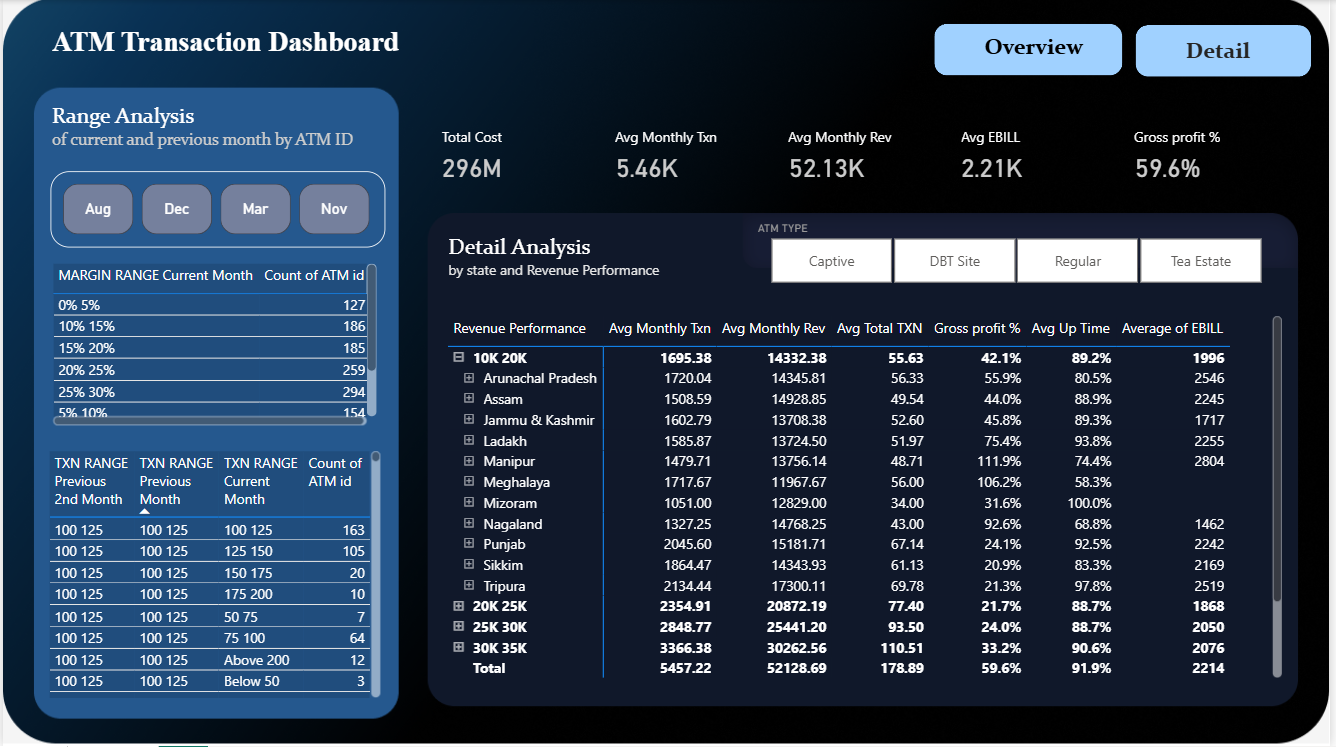

The dashboard page shown, as its layout file describes it:
{"tool":"powerbi","page":{"name":"Detail","canvas":[1280,720],"ordinal":1},"visuals":[{"type":"tableEx","fields":{"Values":["Dataset.MARGIN RANGE Current Month","Dataset.ATM id"]},"box":[42.7,250,323.2,165.9],"z":0},{"type":"tableEx","fields":{"Values":["Dataset.TXN RANGE Previous 2nd Month","Dataset.TXN RANGE Previous Month","Dataset.TXN RANGE Current Month","Dataset.ATM id"]},"box":[39,430.5,330.5,247.6],"z":1000},{"type":"textbox","box":[42.7,93.9,323.2,54.9],"z":2000},{"type":"advancedSlicerVisual","fields":{"Values":["Dataset.short_month"]},"box":[46.3,178,323.2,61],"z":3000},{"type":"pivotTable","fields":{"Rows":["Dataset.Revenue Performance","Dataset.STATE","Dataset.ATM id"],"Values":["Avg(Dataset.Monthly Txn)","Avg(Dataset.Monthly Rev)","Avg(Dataset.AVG Total TXN)","Dataset.Gross profit Percentage","Avg(Dataset.Up Time)","Avg(Dataset. EBILL )"]},"box":[424.4,300,814.6,358.5],"z":4000},{"type":"textbox","box":[42.7,20.7,406.1,46.3],"z":5000},{"type":"cardVisual","fields":{"Data":["Sum(Dataset. Total Cost  )","Avg(Dataset.Monthly Txn)","Avg(Dataset.Monthly Rev)","Avg(Dataset. EBILL )","Dataset.Gross profit Percentage"]},"box":[406.6,101.3,839.7,96.5],"z":6000},{"type":"textbox","box":[424.4,220.7,323.2,58.5],"z":7000},{"type":"slicer","fields":{"Values":["Dataset.ATM TYPE"]},"box":[715.9,208.5,523.2,70.7],"z":8000},{"type":"textbox","box":[942.7,25.6,125.6,41.5],"z":8001},{"type":"shape","box":[898.8,22.7,181.7,50],"z":8002},{"type":"textbox","box":[942.7,28,125.6,41.5],"z":8003},{"type":"shape","box":[1092.7,23.9,169.5,50],"z":8004},{"type":"textbox","box":[1136.6,31.7,125.6,41.5],"z":8005}]}

Visuals, with their boxes in screenshot pixels (x1, y1, x2, y2), scaled from the page's 1280x720 canvas onto the 1336x747 screenshot:
tableEx - Dataset.MARGIN RANGE Current Month x Dataset.ATM id: <bbox>45, 259, 382, 431</bbox>
tableEx - Dataset.TXN RANGE Previous 2nd Month x Dataset.TXN RANGE Previous Month: <bbox>41, 447, 386, 704</bbox>
textbox: <bbox>45, 97, 382, 154</bbox>
advancedSlicerVisual - Dataset.short_month: <bbox>48, 185, 386, 248</bbox>
pivotTable - Dataset.Revenue Performance x Dataset.STATE: <bbox>443, 311, 1293, 683</bbox>
textbox: <bbox>45, 21, 468, 70</bbox>
cardVisual - Sum(Dataset. Total Cost  ) x Avg(Dataset.Monthly Txn): <bbox>424, 105, 1301, 205</bbox>
textbox: <bbox>443, 229, 780, 290</bbox>
slicer - Dataset.ATM TYPE: <bbox>747, 216, 1293, 290</bbox>
textbox: <bbox>984, 27, 1115, 70</bbox>
shape: <bbox>938, 24, 1128, 75</bbox>
textbox: <bbox>984, 29, 1115, 72</bbox>
shape: <bbox>1141, 25, 1317, 77</bbox>
textbox: <bbox>1186, 33, 1317, 76</bbox>
